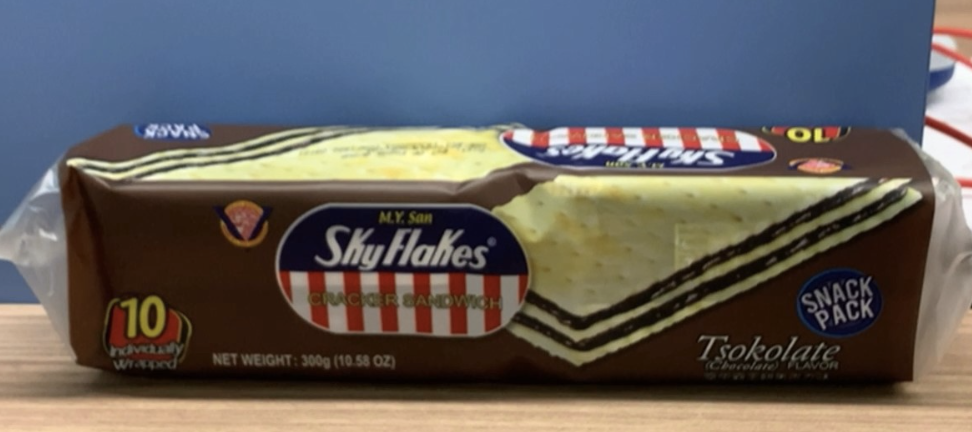crackers_300g-399g: (90, 135, 880, 374)
